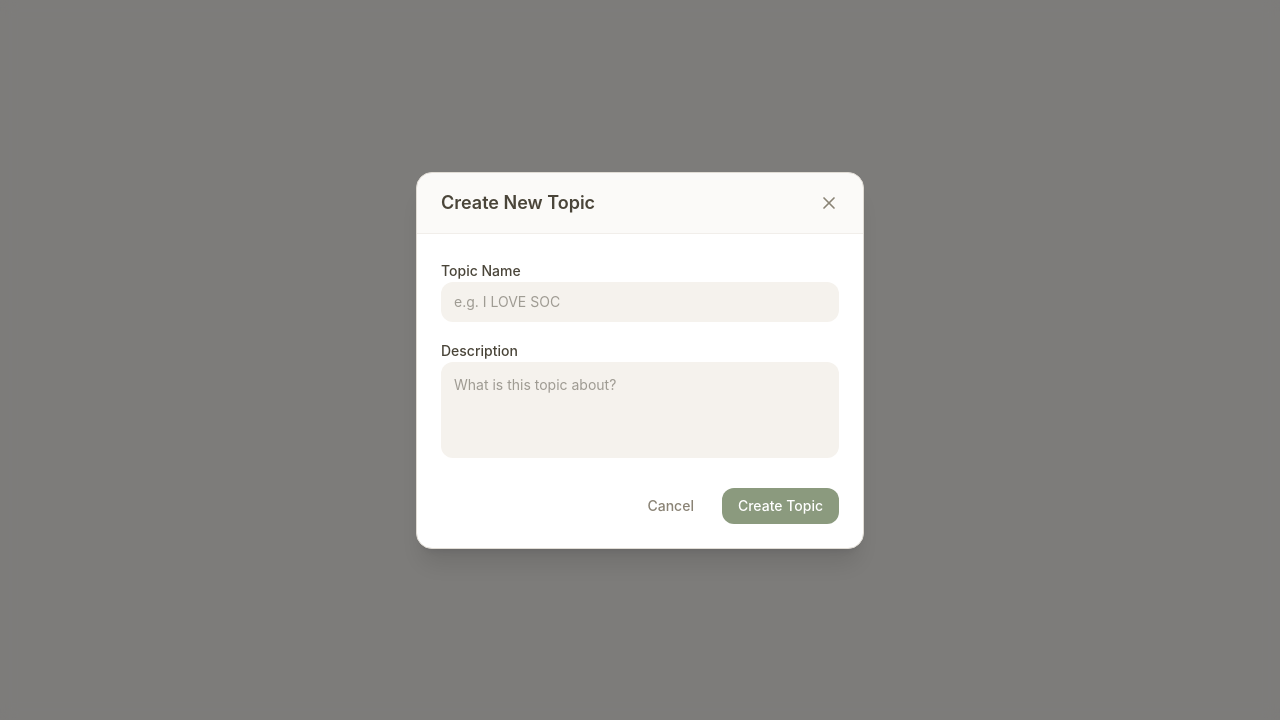
Scenario: CreateTopicModal › shows error message on failure
The image size is (1280, 720).
Type "Duplicate" into the field with placeholder "e.g. I LOVE SOC" at (640,302), box [441,282,839,322]
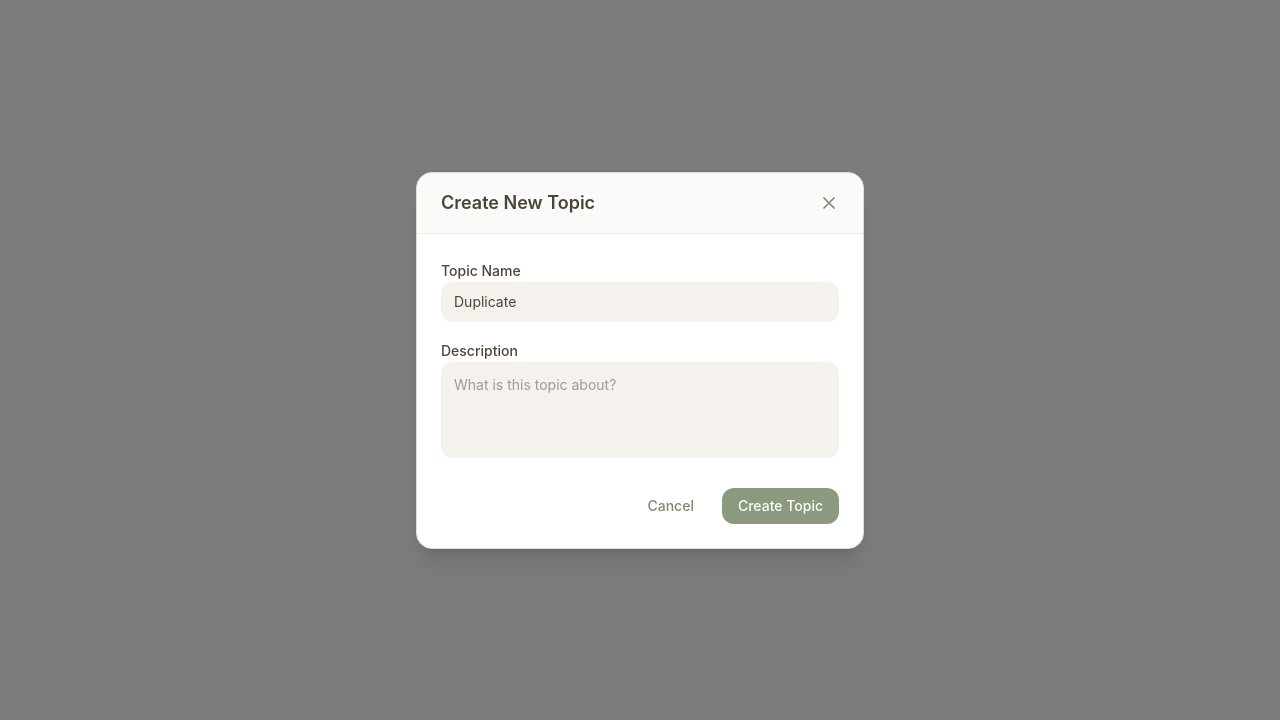
Type "Desc" into the text box with placeholder "What is this topic about?" at (640,410), box [441,362,839,458]
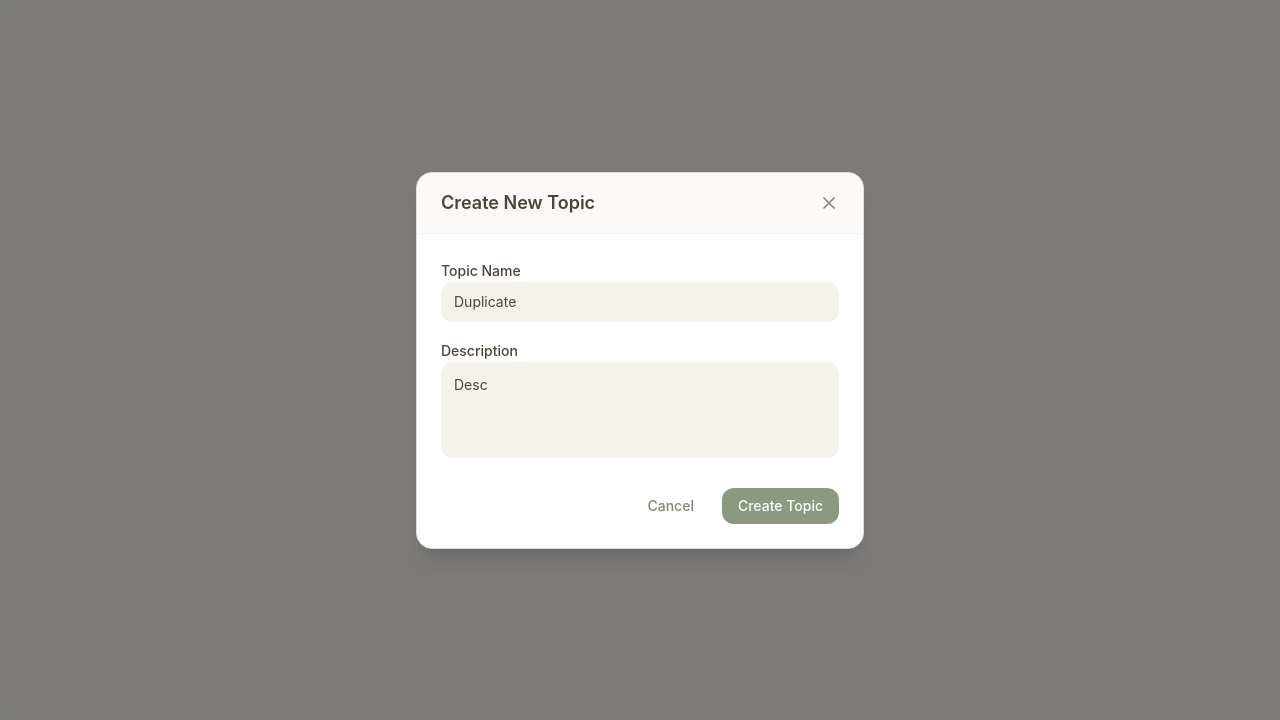
Click the button "Create Topic" at (780,506), box [722,488,839,524]
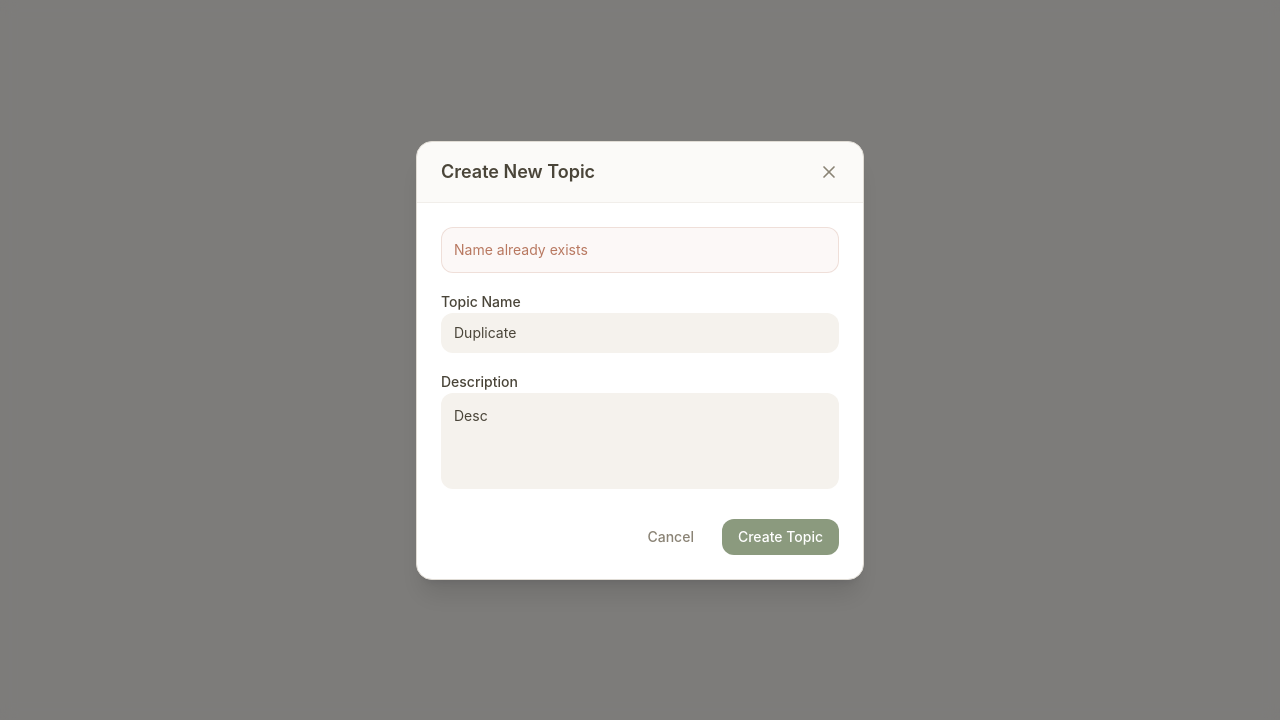
Expected: the text "Name already exists" is shown, [441,226,839,272]
